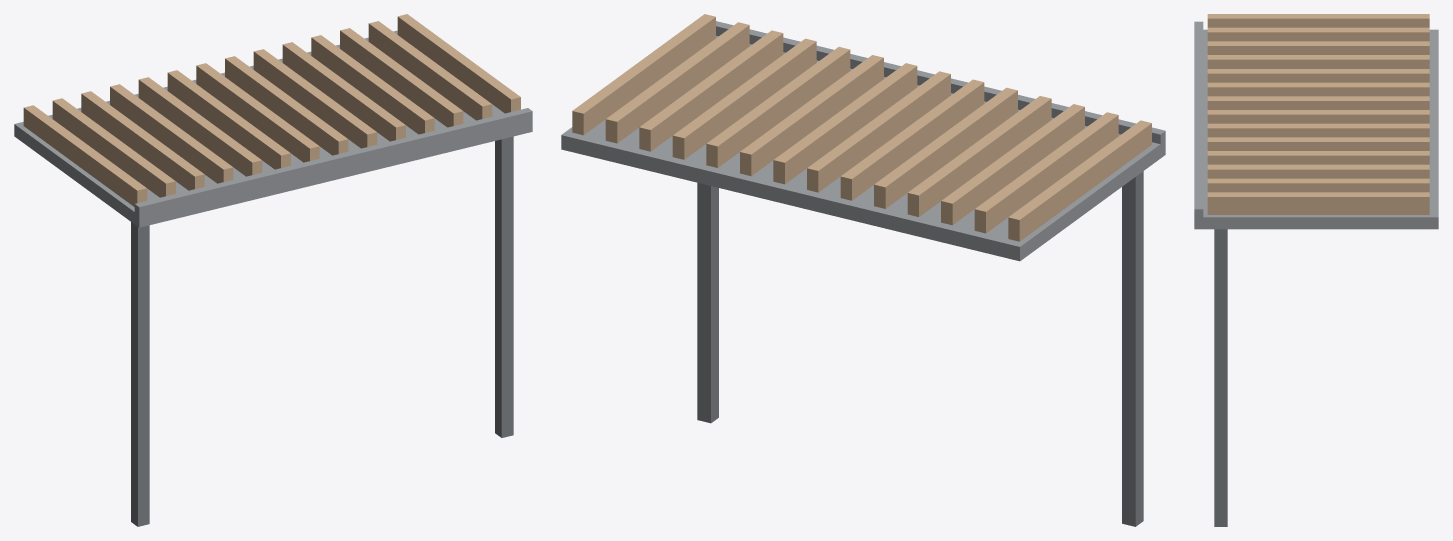
File: entrance_canopy.glb
3 renders of one model, left to right at view 1: azimuth 30°, elevation 25°; view 2: azimuth 150°, elevation 25°; view 3: azimuth 270°, elevation 25°, orthographic. The views are drawn at different scales.
Visible parts, largest first — view 1: entrance_canopy_canopy, entrance_canopy_coping, entrance_canopy_iron; view 2: entrance_canopy_canopy, entrance_canopy_coping, entrance_canopy_iron; view 3: entrance_canopy_canopy, entrance_canopy_coping, entrance_canopy_iron.
Boxes of the visible parts, x1,y1,x2,y2 form: entrance_canopy_canopy: (23, 14, 520, 206); entrance_canopy_coping: (14, 30, 532, 227); entrance_canopy_iron: (131, 136, 513, 526); entrance_canopy_canopy: (572, 14, 1151, 241); entrance_canopy_coping: (561, 21, 1165, 261); entrance_canopy_iron: (697, 171, 1143, 526); entrance_canopy_canopy: (1207, 14, 1429, 214); entrance_canopy_coping: (1194, 21, 1438, 229); entrance_canopy_iron: (1214, 229, 1227, 526).
Size of the model in its own units: 4 by 3.3 by 2.2.
